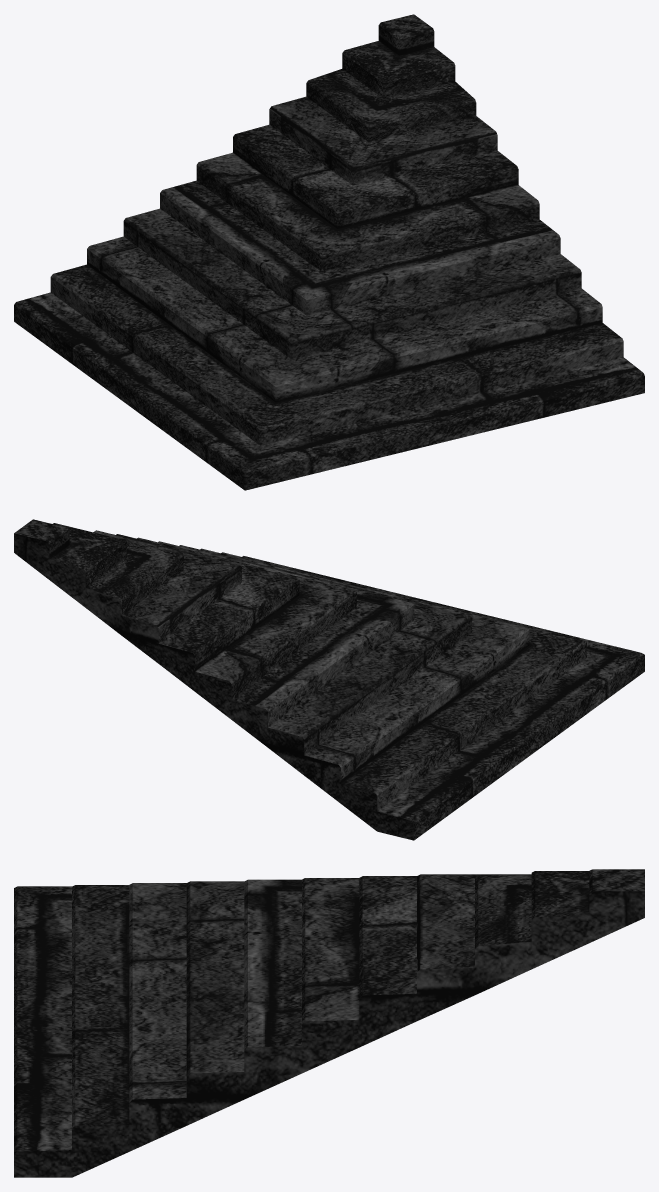
The model's file is Castle Stair (Angle).FBX.
3 renders of one model, top to bottom at view 1: azimuth 30°, elevation 25°; view 2: azimuth 150°, elevation 25°; view 3: azimuth 270°, elevation 25°, orthographic. The views are drawn at different scales.
Parts seen in each view (by area): view 1: Stair005; view 2: Stair005; view 3: Stair005.
Part boxes in pixels (x1,y1,x2,y2): Stair005: (14,14,644,490); Stair005: (14,519,644,840); Stair005: (14,869,644,1177).
Bounding box in the file's own units: 91.49 × 45.83 × 91.49.
Materials: 1 (1 with a texture image).
